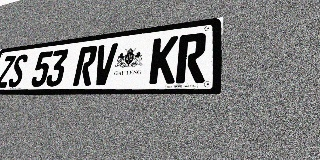3: (45, 49, 69, 87)
5: (30, 51, 53, 87)
K: (148, 36, 179, 84)
R: (175, 32, 207, 83), (72, 45, 98, 86)
S: (7, 54, 29, 87)
V: (91, 43, 118, 85)
Z: (0, 55, 16, 88)
